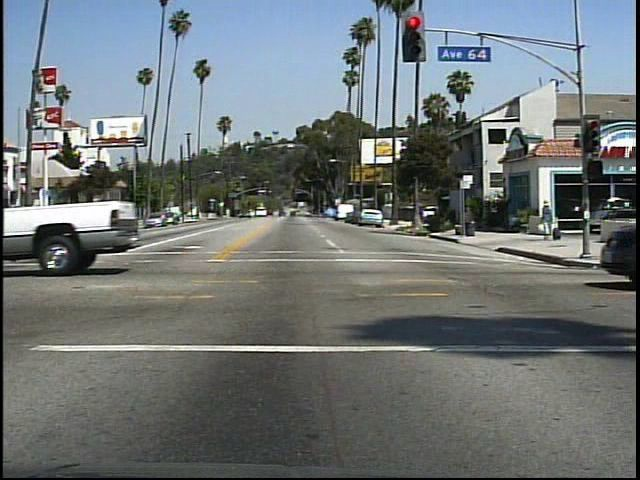person: (536, 194, 563, 241)
